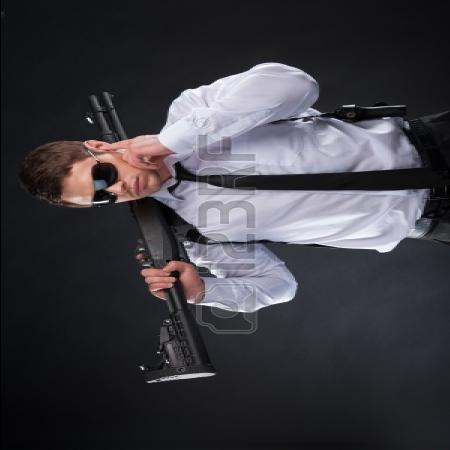Pistol: (317, 95, 411, 132)
